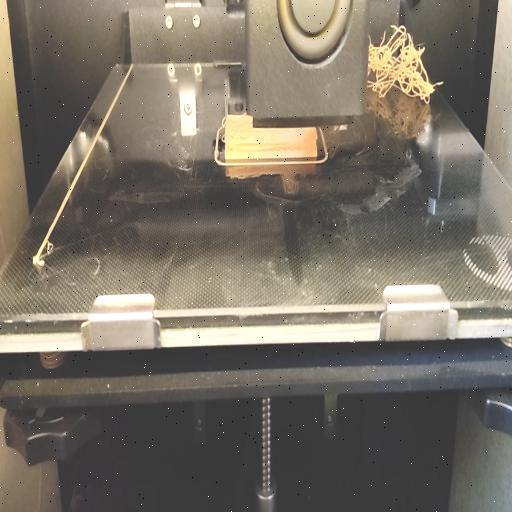spaghetti: (369, 24, 443, 104)
